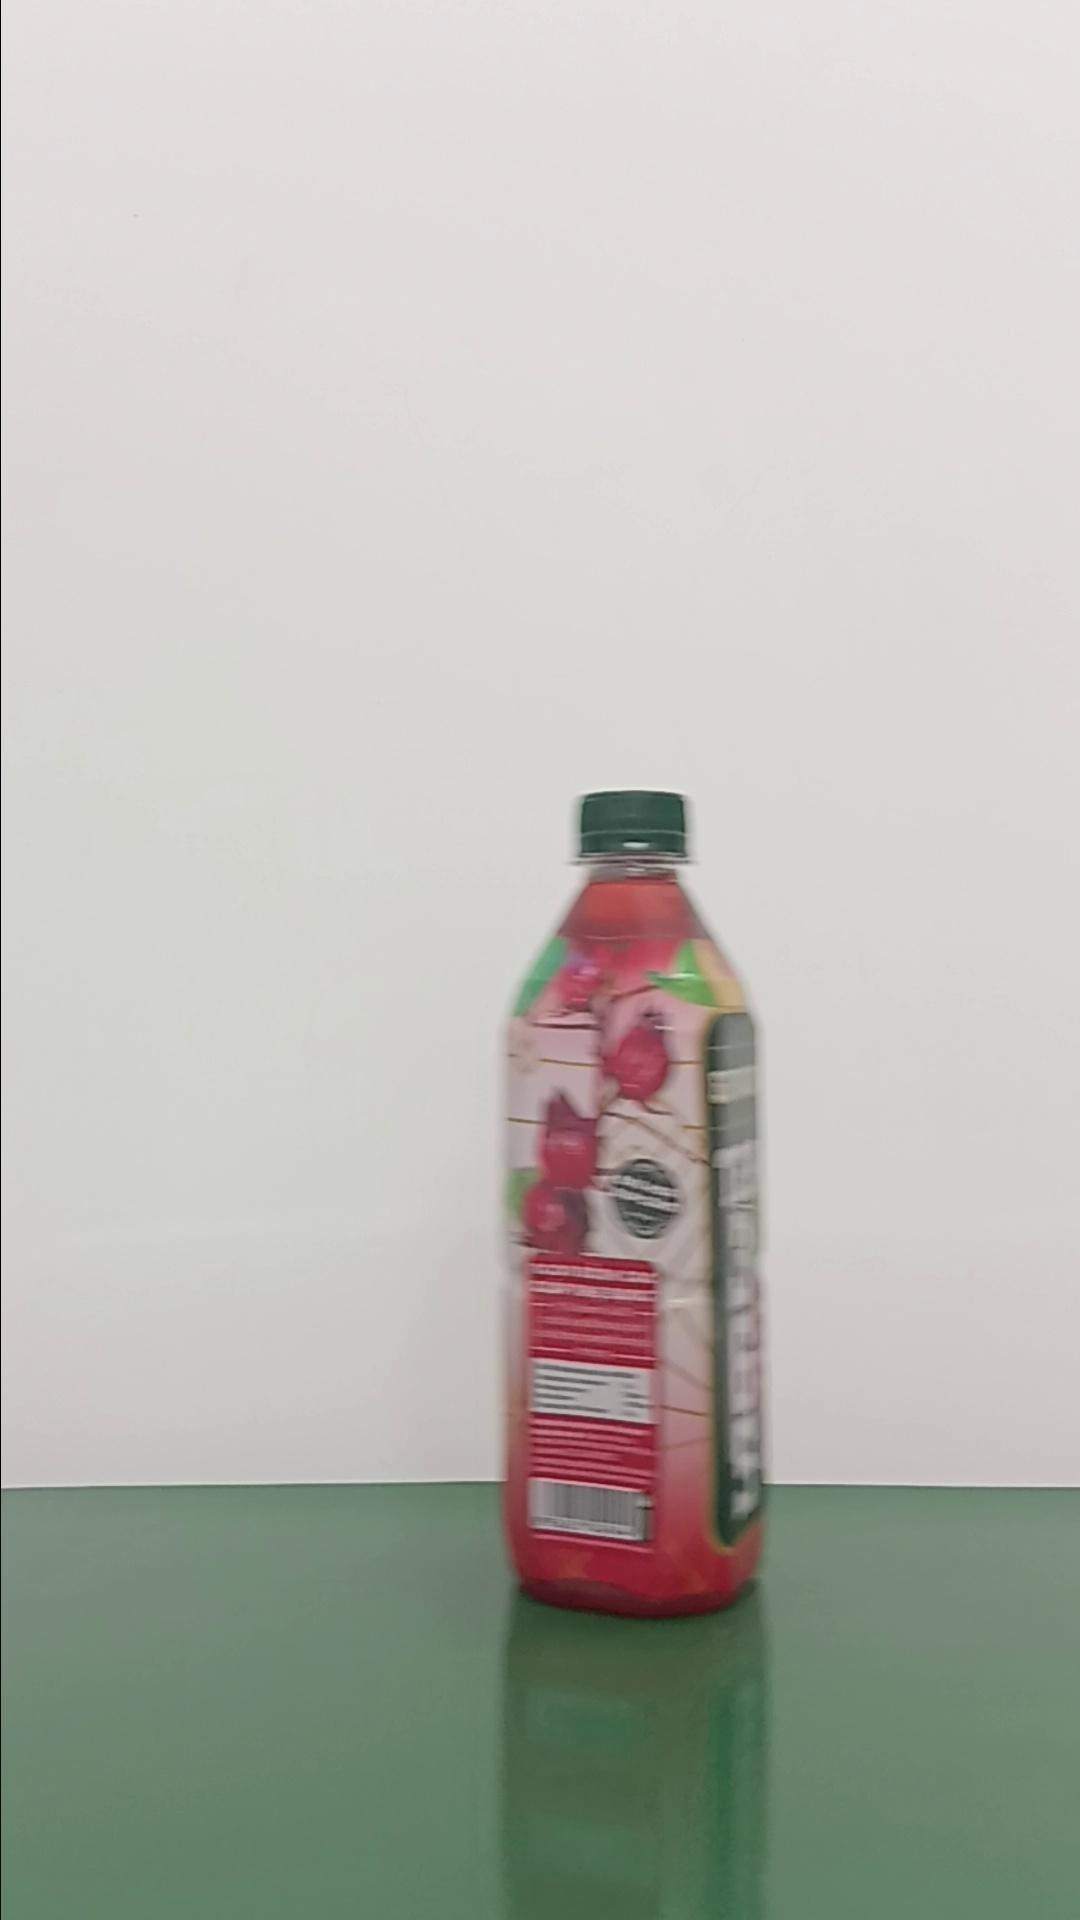khong loi: (496, 786, 769, 1618)
